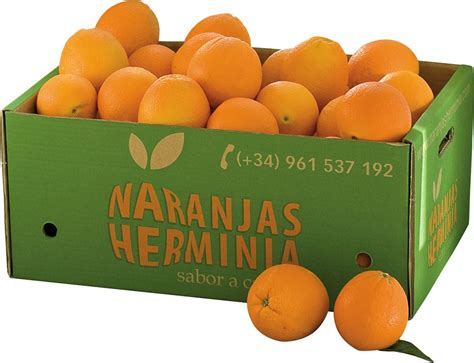orange: (334, 265, 414, 352), (247, 262, 332, 343), (187, 36, 265, 101), (338, 81, 414, 145), (136, 71, 209, 128), (284, 34, 348, 99), (56, 28, 128, 85), (257, 79, 323, 135), (205, 96, 280, 141), (348, 38, 421, 81), (93, 1, 164, 43), (38, 73, 97, 117)
